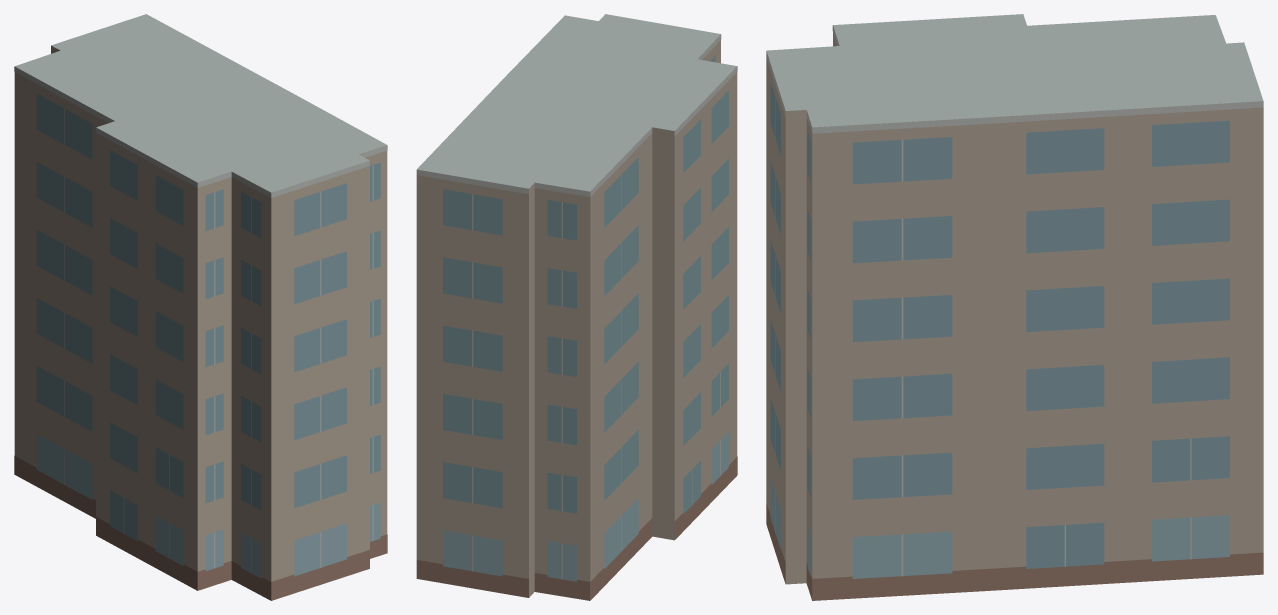
File: survey-upis-32576678.glb
The picture shows the model from 3 angles, left to right: view 1: azimuth 30°, elevation 25°; view 2: azimuth 150°, elevation 25°; view 3: azimuth 270°, elevation 25°; orthographic projection. The views are drawn at different scales.
Parts seen in each view (by area): view 1: survey-upis-32576678.tmp; view 2: survey-upis-32576678.tmp; view 3: survey-upis-32576678.tmp.
Part boxes in pixels (box(x1,y1,x2,y2)): survey-upis-32576678.tmp: box(14, 14, 387, 600); survey-upis-32576678.tmp: box(416, 14, 737, 600); survey-upis-32576678.tmp: box(766, 14, 1263, 600).
Bounding box in the file's own units: 9.42 × 18.3 × 17.43.
